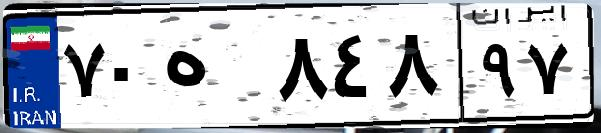0: (110, 28, 158, 98)
4: (330, 28, 385, 110)
7: (57, 26, 110, 100), (525, 38, 570, 115)
8: (270, 28, 330, 110), (385, 28, 445, 110)
9: (475, 38, 525, 113)
ه: (158, 20, 270, 120)
